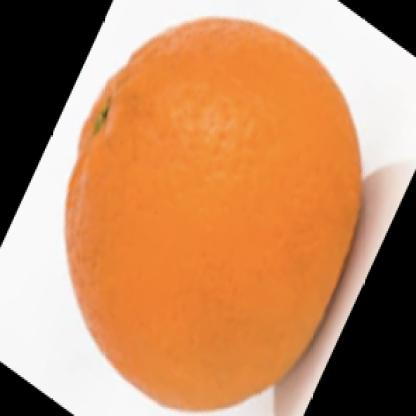fresh: (66, 18, 363, 414)
